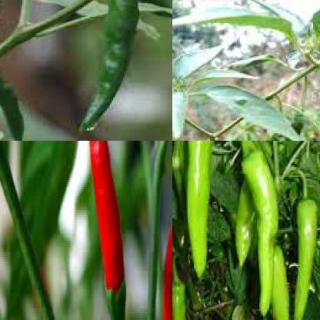green_chilli: (72, 0, 147, 132), (240, 152, 278, 317), (186, 141, 214, 278), (292, 198, 318, 320), (0, 0, 22, 140), (232, 172, 258, 271), (270, 243, 297, 319), (270, 118, 310, 140), (172, 281, 193, 319), (172, 141, 188, 181)
